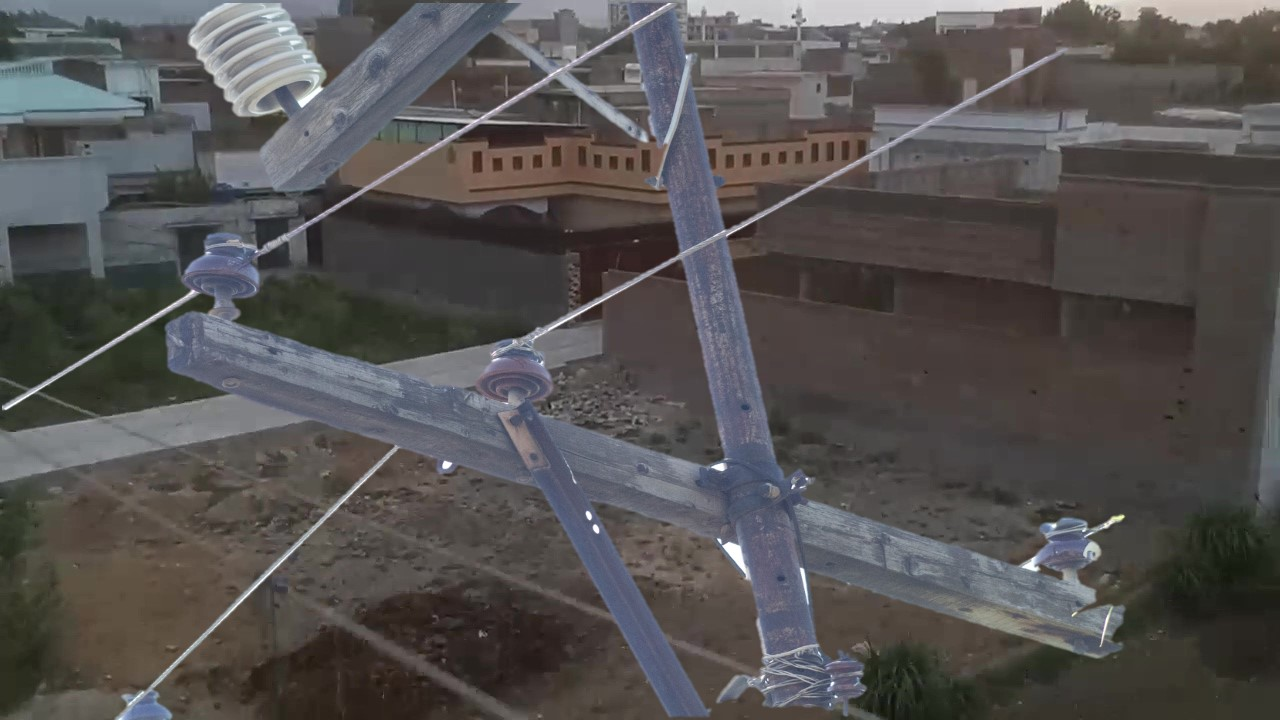defect_pin: (1017, 502, 1112, 577)
insulator_pin: (176, 227, 271, 311), (472, 336, 565, 412)
